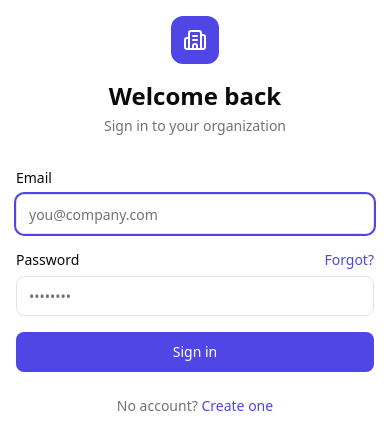
Test: LoginPage › asks for a second factor instead of signing in when the API challenges
The image size is (390, 428).
Type "ada@example.test" into the field labelled "Email" at (195, 214), box [16, 194, 374, 234]
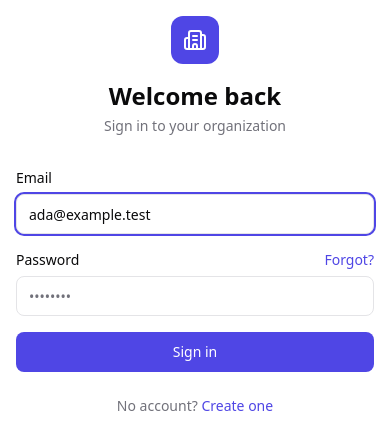
Type "Str0ng!Passw0rd#2026" into the password field labelled "Password" at (195, 296), box [16, 276, 374, 316]
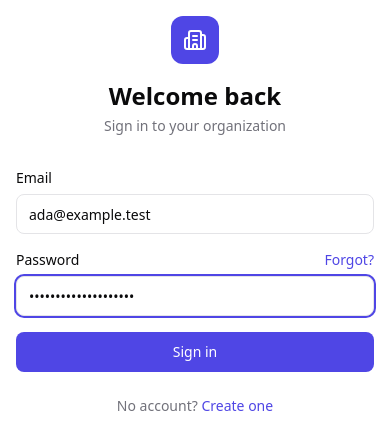
Click the button "Sign in" at (195, 352), box [16, 332, 374, 372]
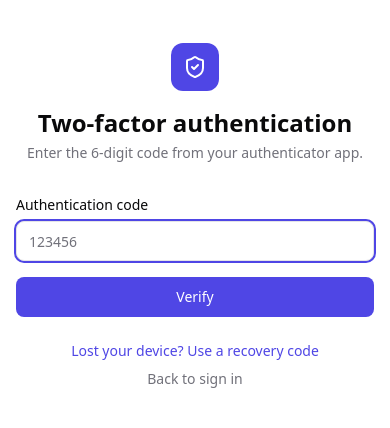
Expected: the heading "Two-factor authentication" is shown, [38, 107, 352, 139]
Expected: the field labelled "Authentication code" is shown, [16, 221, 374, 261]
